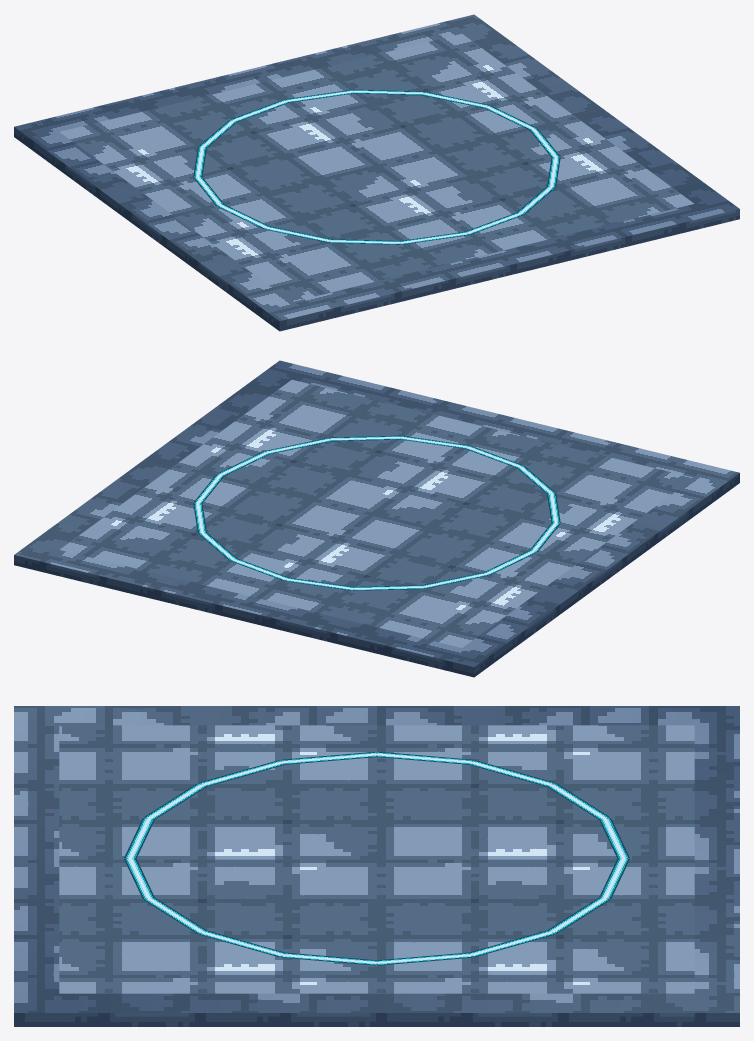
Rendered from cystreet.plaza.glb.
3 views of the same model, one above another, from view 1: azimuth 30°, elevation 25°; view 2: azimuth 150°, elevation 25°; view 3: azimuth 270°, elevation 25° (orthographic). The views are drawn at different scales.
Parts seen in each view (by area): view 1: kit_shell_tiles, kit_border, kit_card_inlay; view 2: kit_shell_tiles, kit_border, kit_card_inlay; view 3: kit_shell_tiles, kit_border, kit_card_inlay.
Boxes of the visible parts, <box> form: kit_shell_tiles: <box>60,33,694,301</box>; kit_border: <box>14,14,739,331</box>; kit_card_inlay: <box>193,89,560,244</box>; kit_shell_tiles: <box>59,379,693,647</box>; kit_border: <box>14,360,739,677</box>; kit_card_inlay: <box>193,435,560,590</box>; kit_shell_tiles: <box>59,725,694,993</box>; kit_border: <box>14,706,739,1026</box>; kit_card_inlay: <box>124,751,629,965</box>.
Size of the model in its own units: 8 by 0.18 by 8.
Materials: 4 (4 with a texture image).
